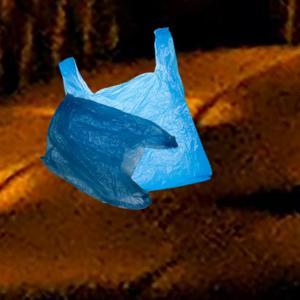plastic_bag: (54, 26, 217, 197), (40, 92, 179, 213)
